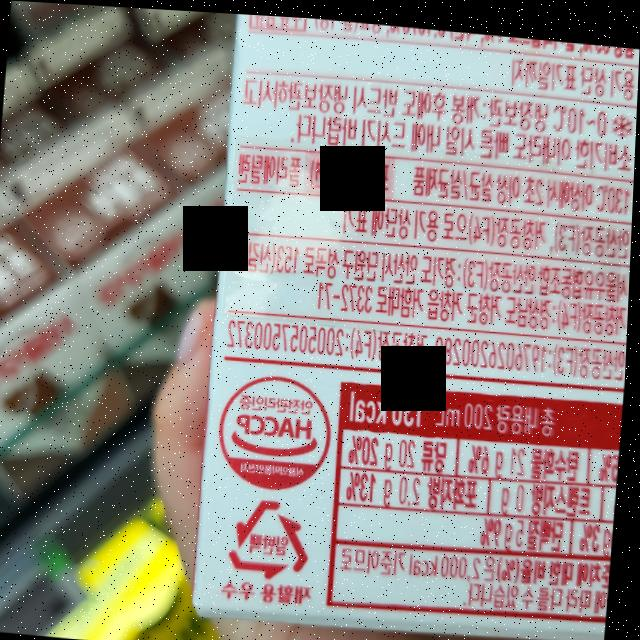NormalPack: (226, 485, 320, 581)
